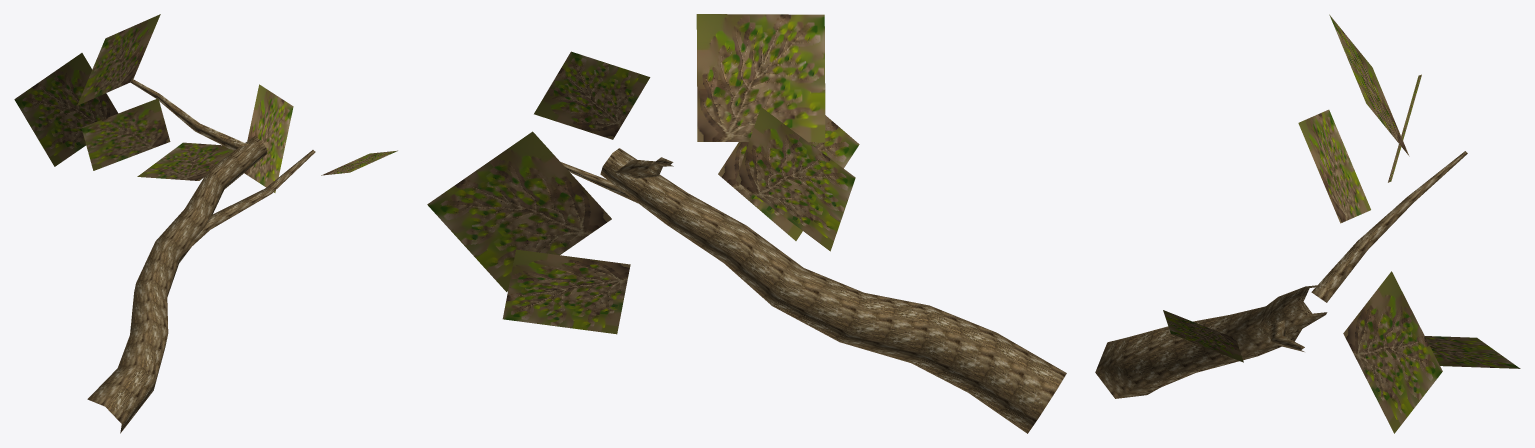
The model's file is dh_brush_lod1.glb.
3 views of the same model, side by side, from view 1: azimuth 30°, elevation 25°; view 2: azimuth 150°, elevation 25°; view 3: azimuth 270°, elevation 25° (orthographic). The views are drawn at different scales.
Visible parts, largest first — view 1: dh_brush_lod1; view 2: dh_brush_lod1; view 3: dh_brush_lod1.
Part boxes in pixels (left/top/right/bottom): dh_brush_lod1: left=14, top=14, right=397, bottom=433; dh_brush_lod1: left=427, top=14, right=1066, bottom=433; dh_brush_lod1: left=1095, top=14, right=1520, bottom=433.
Bounding box in the file's own units: 40.62 × 38.54 × 34.77.
Materials: 2 (2 with a texture image).
